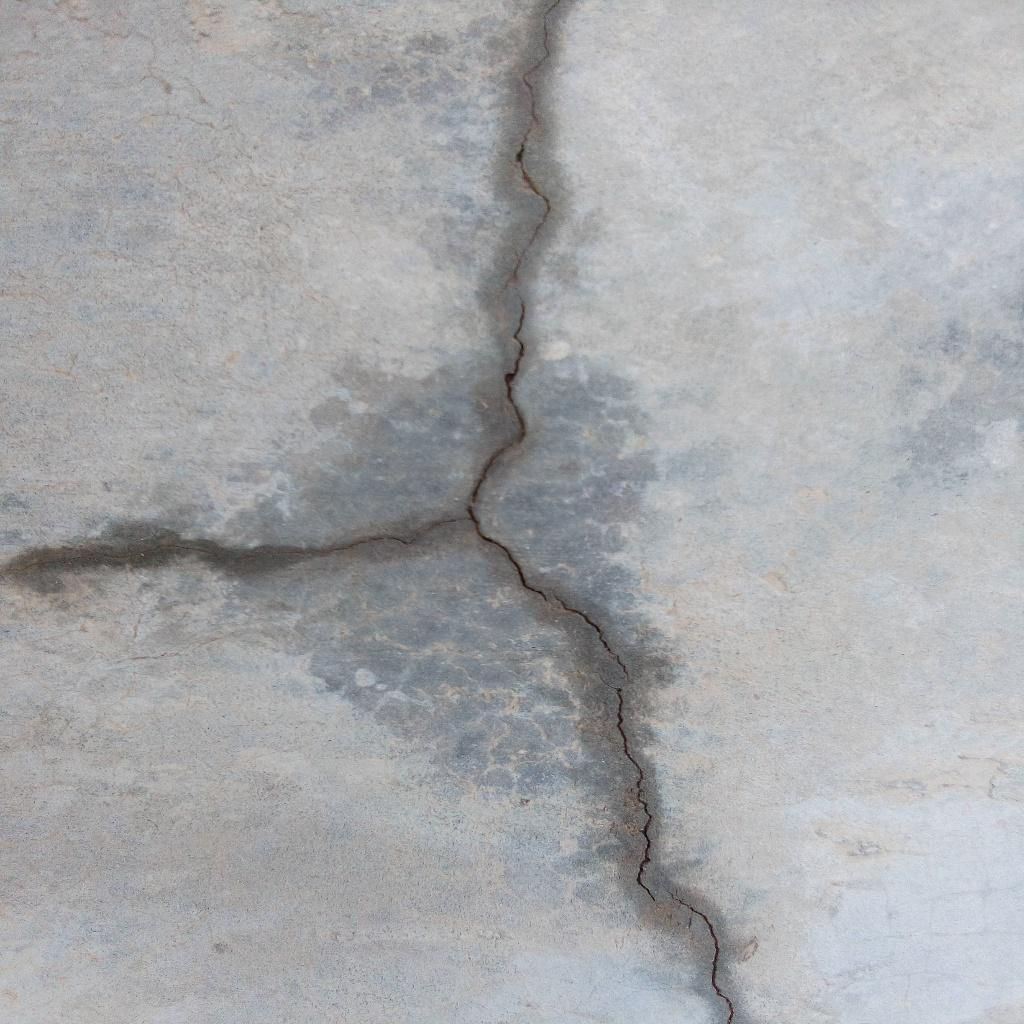crack: (475, 519, 739, 1024), (465, 1, 566, 511), (1, 515, 474, 587)
